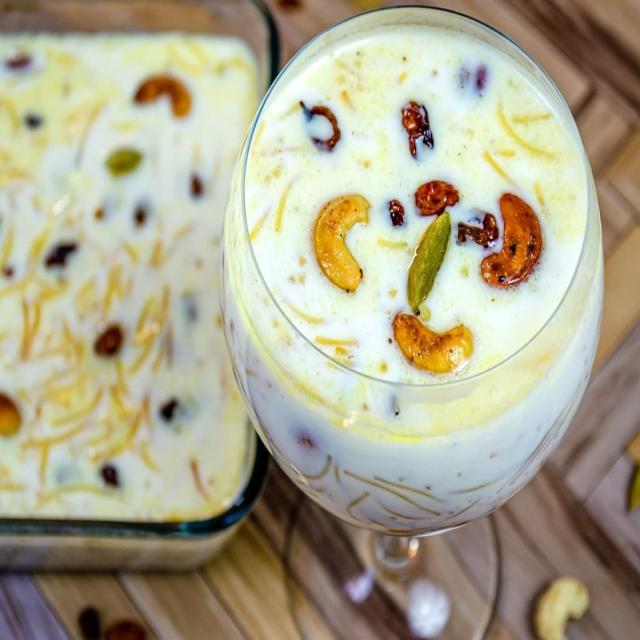shavige payasa: (245, 2, 602, 437), (0, 4, 260, 538)
